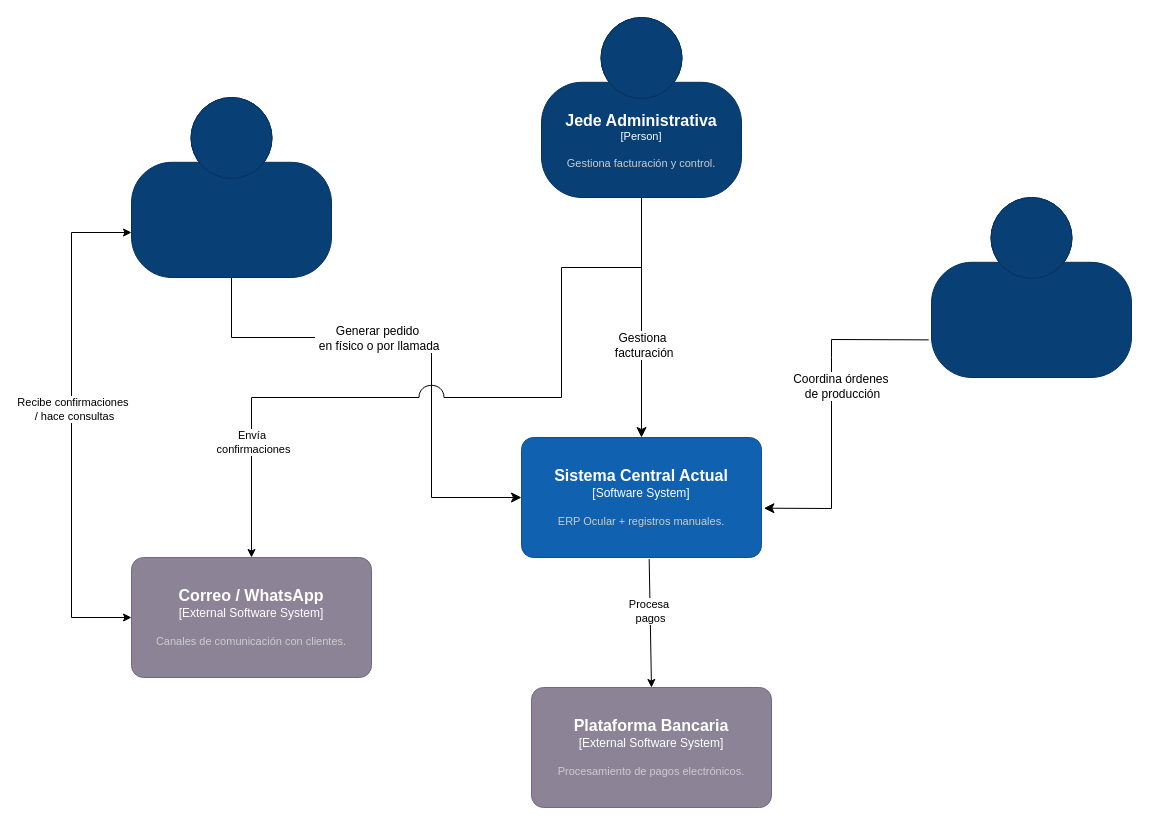
Some shapes in this 1149 by 825 pixel diagram are drawn without their labels. The shapes that lost their labels are listed below. From the top down, each one's centre as x and y in pixels, then its label:
At pixel 231 187: "Cliente final [Person] Solicita y consulta pedidos ópticos.".
At pixel 1031 287: "Jefe de Producción [Person] Coordina el laboratorio óptico.".
